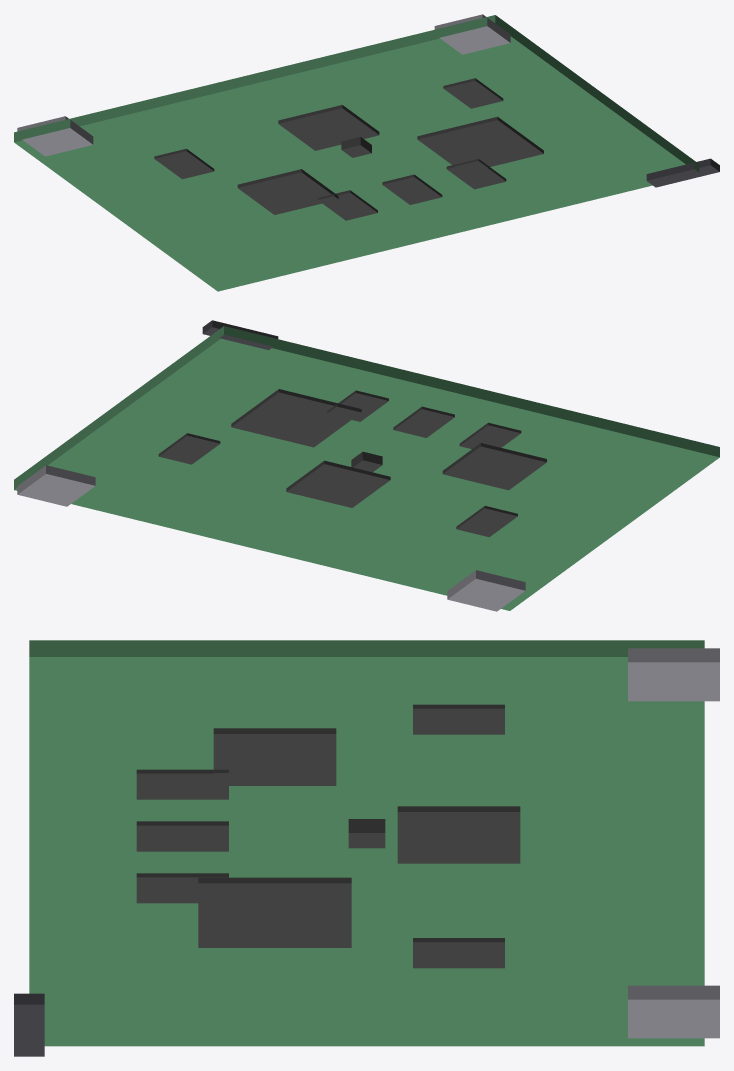
Rendered from mainboard.gltf.
3 renders of one model, top to bottom at view 1: azimuth 30°, elevation 25°; view 2: azimuth 150°, elevation 25°; view 3: azimuth 270°, elevation 25°, orthographic. The views are drawn at different scales.
Visible parts, largest first — view 1: mainboard; view 2: mainboard; view 3: mainboard.
Boxes of the visible parts, <box> form: mainboard: <box>14,14,719,291</box>; mainboard: <box>14,320,719,611</box>; mainboard: <box>14,640,719,1056</box>.
Bounding box in the file's own units: 0.31 × 0.009 × 0.23.
